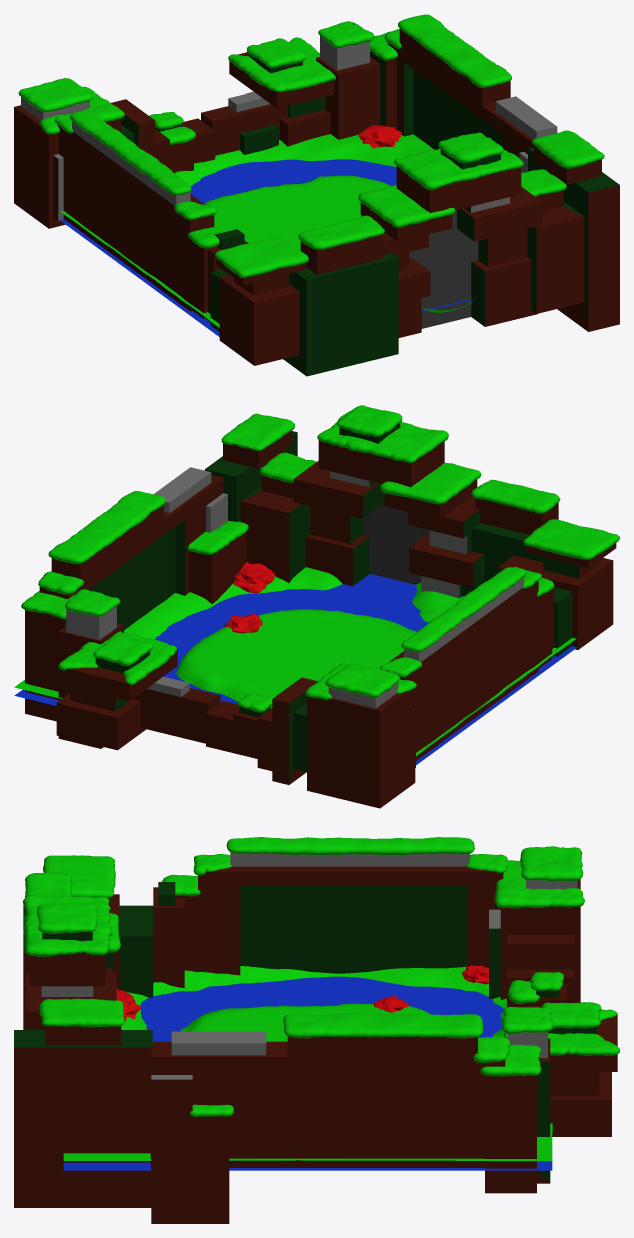
Rendered from GolfGameTerrain.obj.
3 renders of one model, top to bottom at view 1: azimuth 30°, elevation 25°; view 2: azimuth 150°, elevation 25°; view 3: azimuth 270°, elevation 25°, orthographic. The views are drawn at different scales.
Parts seen in each view (by area): view 1: Cube, SnowBall.001, Plane.001, Plane.002, Plane.003, Icosphere.001; view 2: Cube, SnowBall.001, Plane.001, Plane.002, Plane.003, Icosphere.001; view 3: Cube, SnowBall.001, Plane.002, Plane.001, Icosphere.001.
Part boxes in pixels (bbox=[...]): Cube: bbox=[14, 28, 619, 376]; SnowBall.001: bbox=[18, 14, 604, 277]; Plane.001: bbox=[60, 134, 472, 327]; Plane.002: bbox=[60, 159, 472, 336]; Plane.003: bbox=[409, 210, 478, 328]; Icosphere.001: bbox=[359, 125, 401, 148]; Cube: bbox=[25, 423, 616, 808]; SnowBall.001: bbox=[21, 405, 619, 712]; Plane.001: bbox=[14, 567, 576, 755]; Plane.002: bbox=[14, 574, 576, 765]; Plane.003: bbox=[363, 503, 429, 584]; Icosphere.001: bbox=[224, 561, 274, 633]; Cube: bbox=[14, 852, 617, 1223]; SnowBall.001: bbox=[23, 837, 619, 1116]; Plane.002: bbox=[63, 976, 552, 1170]; Plane.001: bbox=[63, 966, 552, 1161]; Icosphere.001: bbox=[116, 965, 488, 1020].
Bounding box in the file's own units: 8.4 × 4.16 × 9.92.
